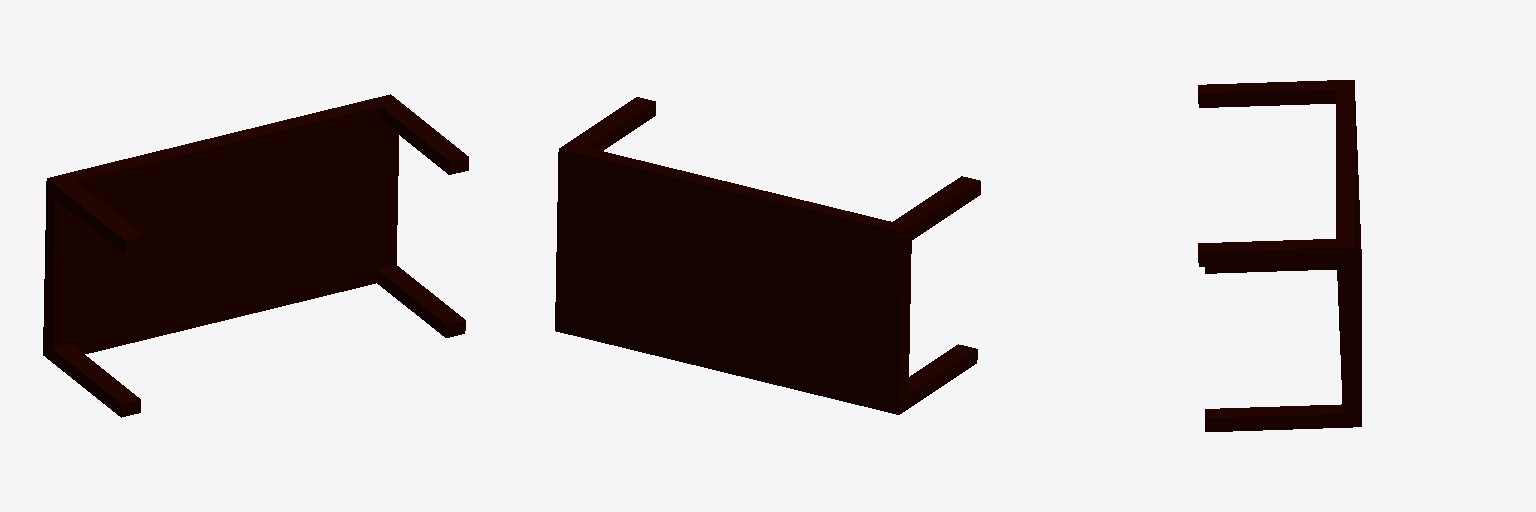
File: table.obj
3 renders of one model, left to right at view 1: azimuth 30°, elevation 25°; view 2: azimuth 150°, elevation 25°; view 3: azimuth 270°, elevation 25°, orthographic.
Visible parts, largest first — view 1: Cube.004_Cube.010; view 2: Cube.004_Cube.010; view 3: Cube.004_Cube.010.
Boxes of the visible parts, box(x1,y1,x2,y2) form: Cube.004_Cube.010: box(43, 94, 468, 417); Cube.004_Cube.010: box(555, 97, 980, 414); Cube.004_Cube.010: box(1198, 80, 1361, 431).
Bounding box in the file's own units: 3.48 × 1.79 × 1.43.